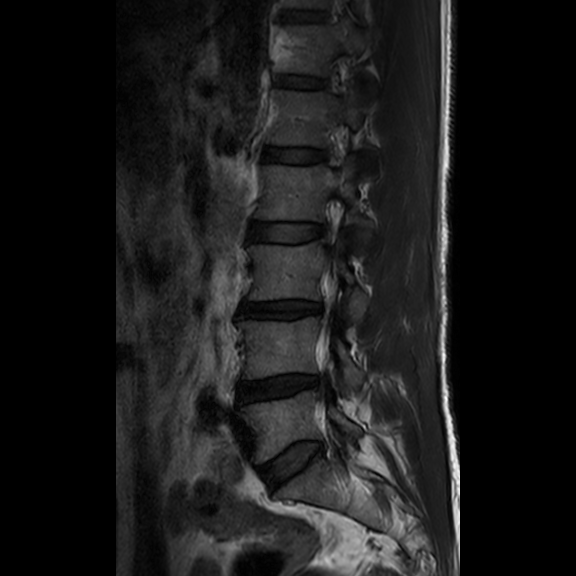LFS0: (319, 112, 359, 180)
